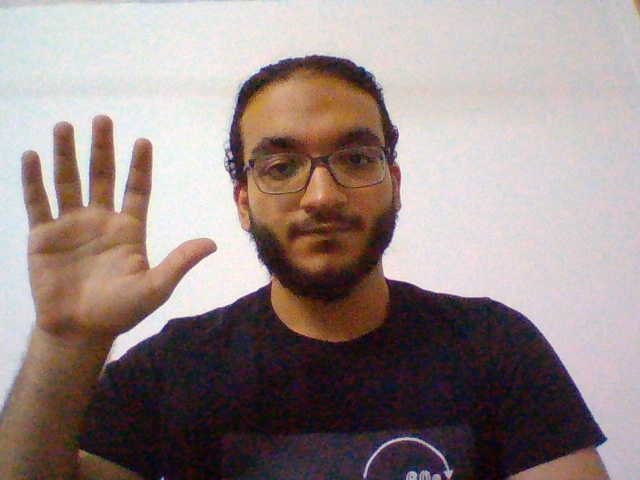Hello: (3, 100, 222, 345)
